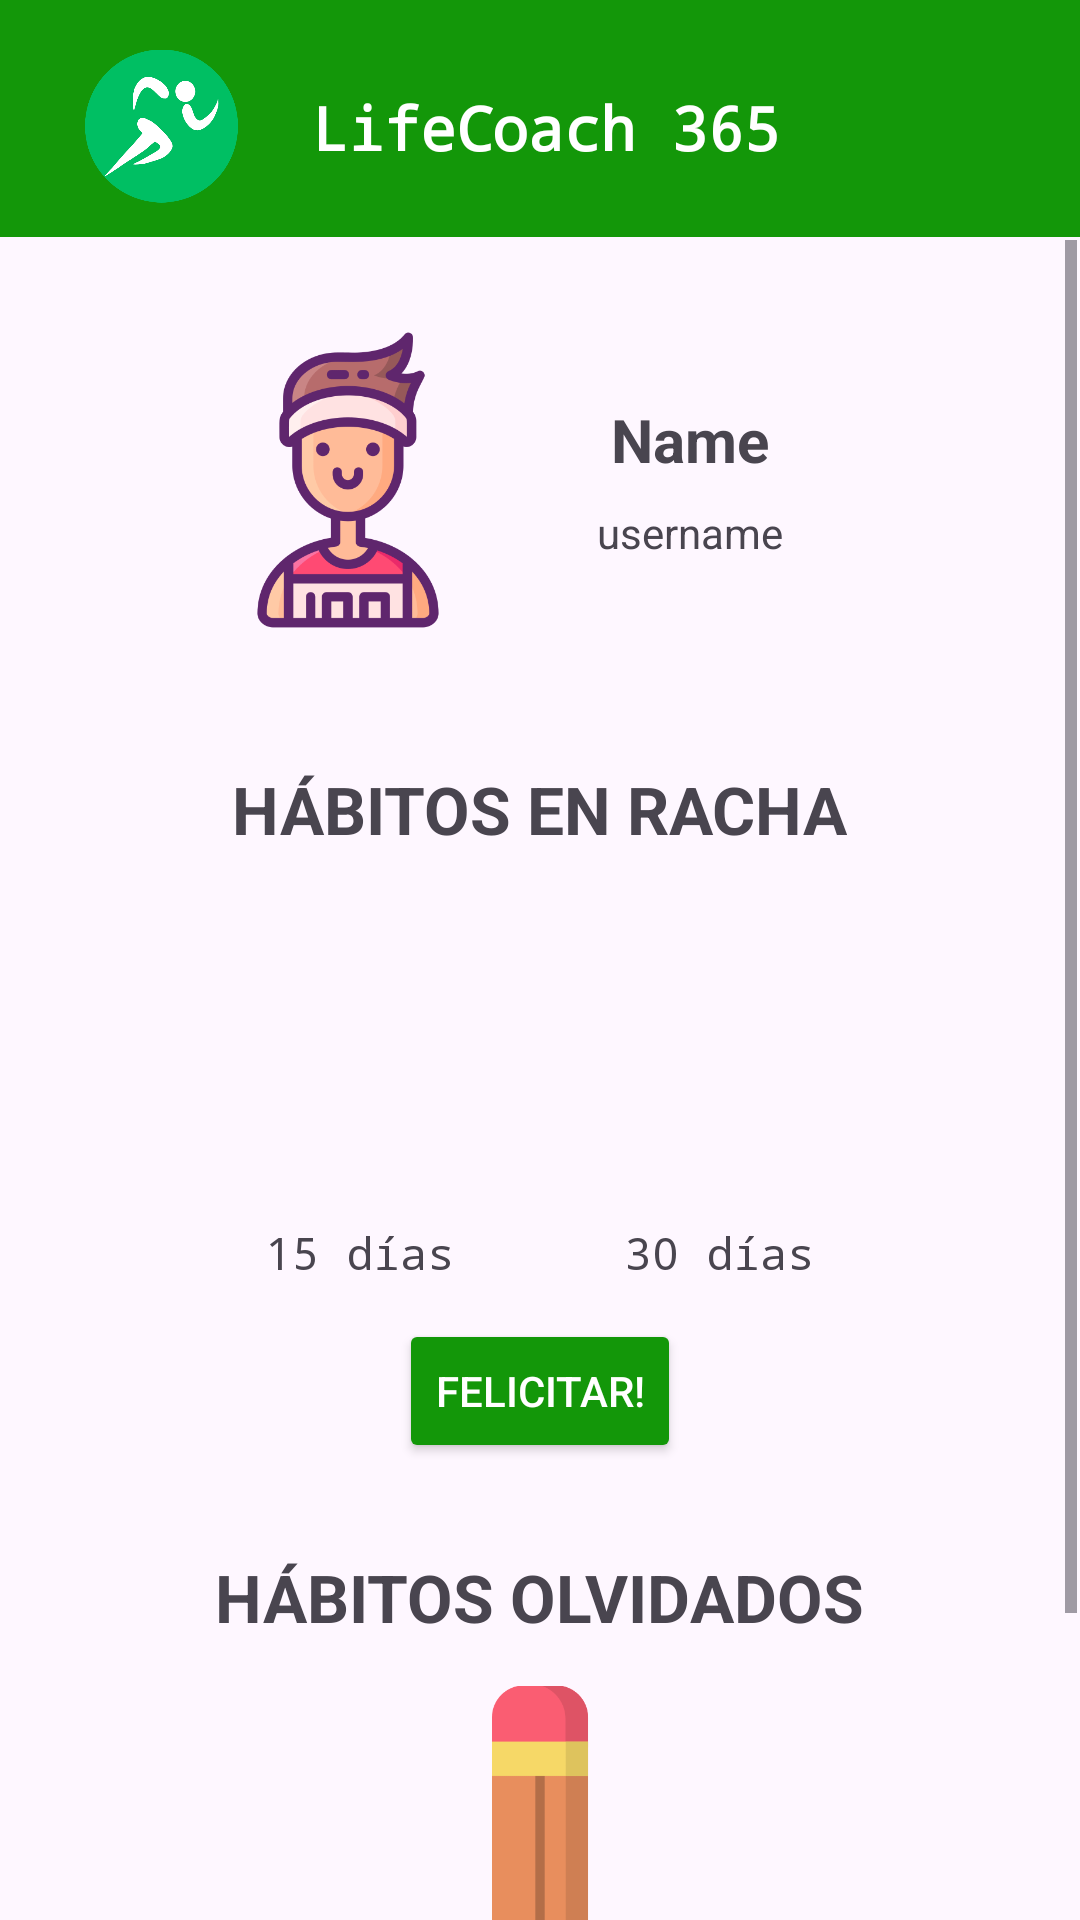

Named icons in this screenshot (1080 × 1920) and their centers, (x,y):
usuario: (348,480)
